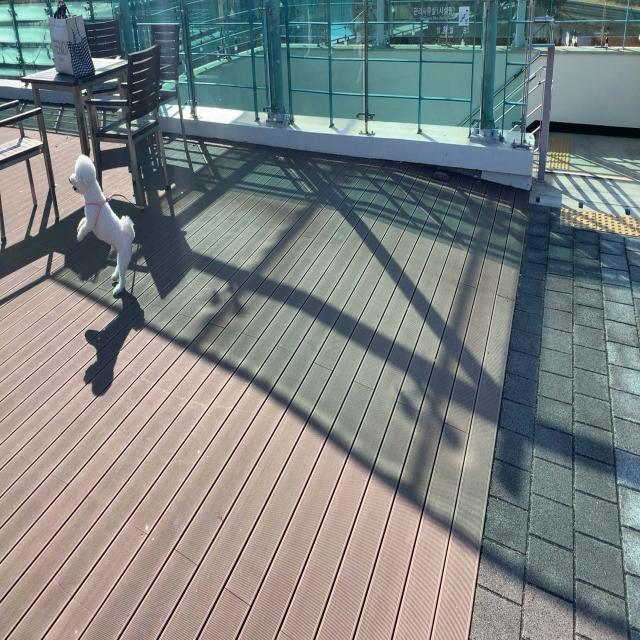Dog: (69, 152, 136, 300)
